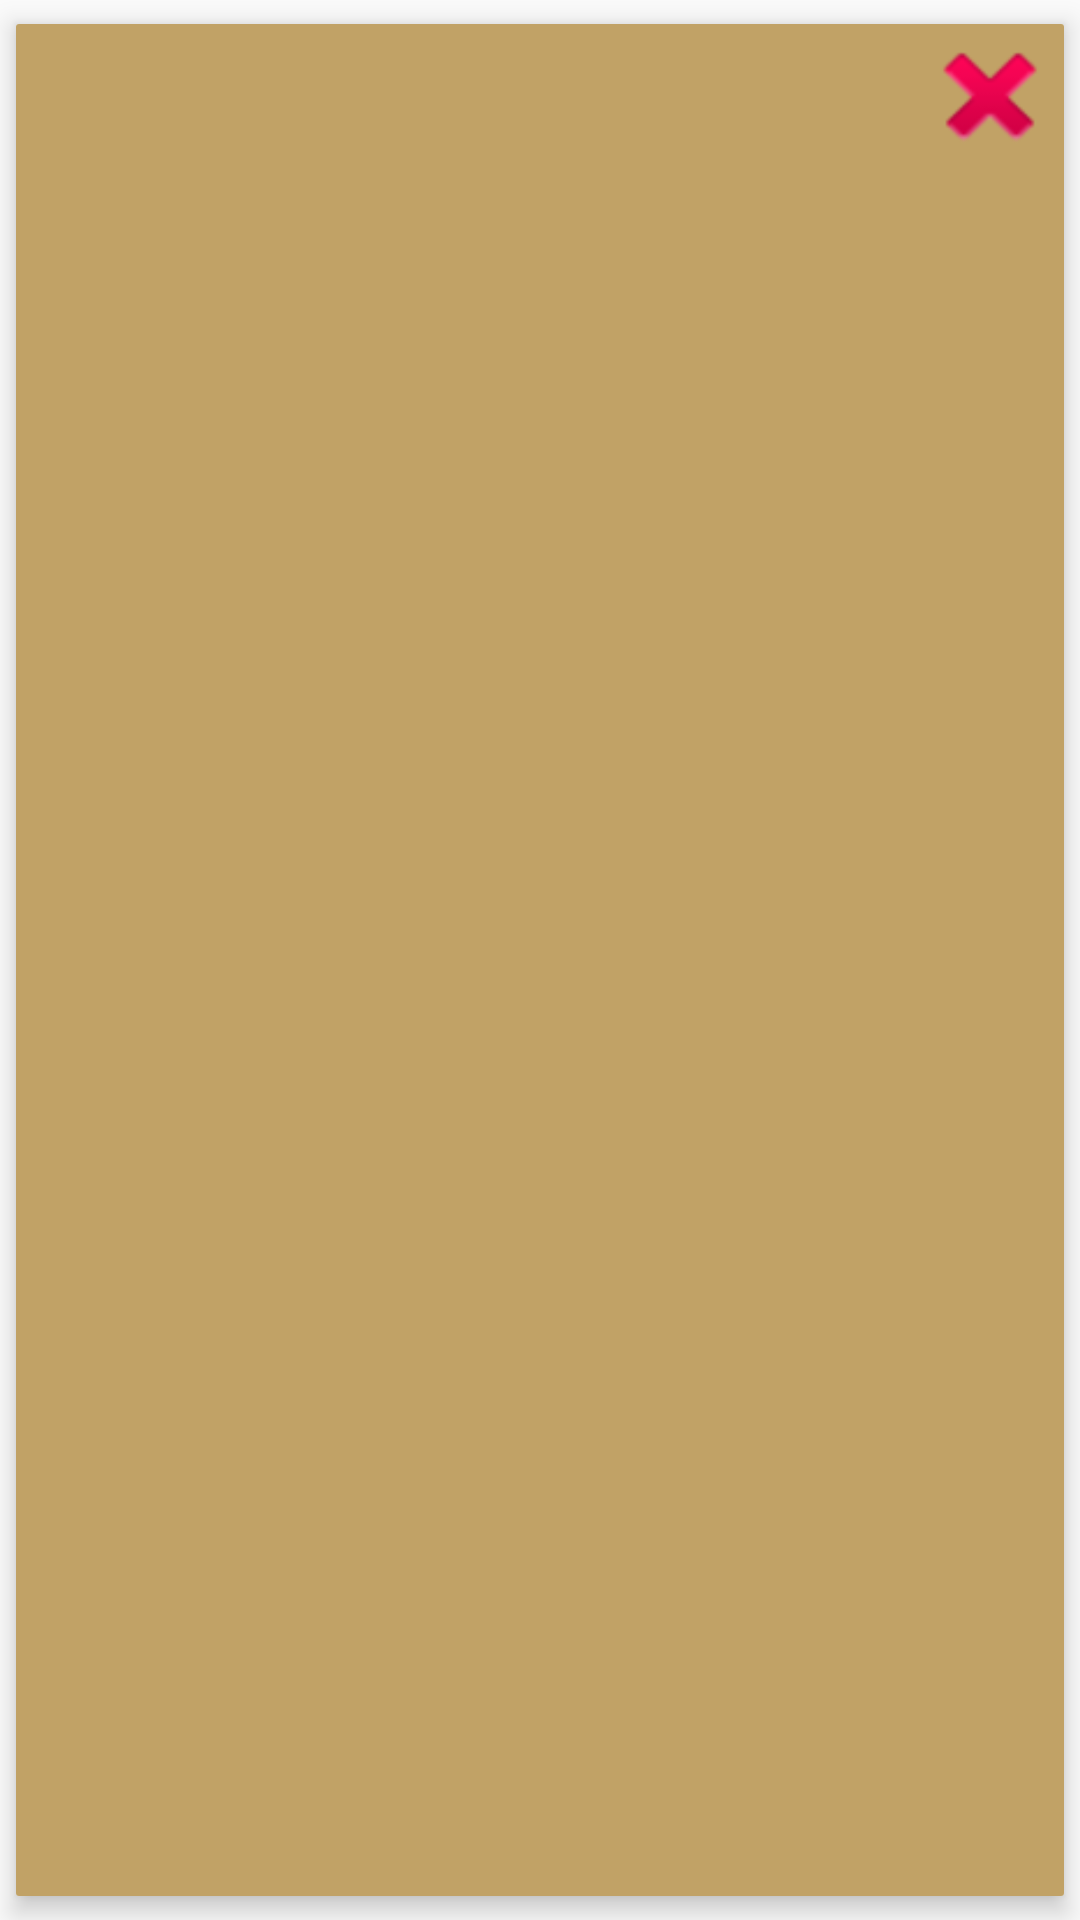

Where to tap for icons on this 1080 × 1920 app screen, as (x,y):
delete: (990,96)
